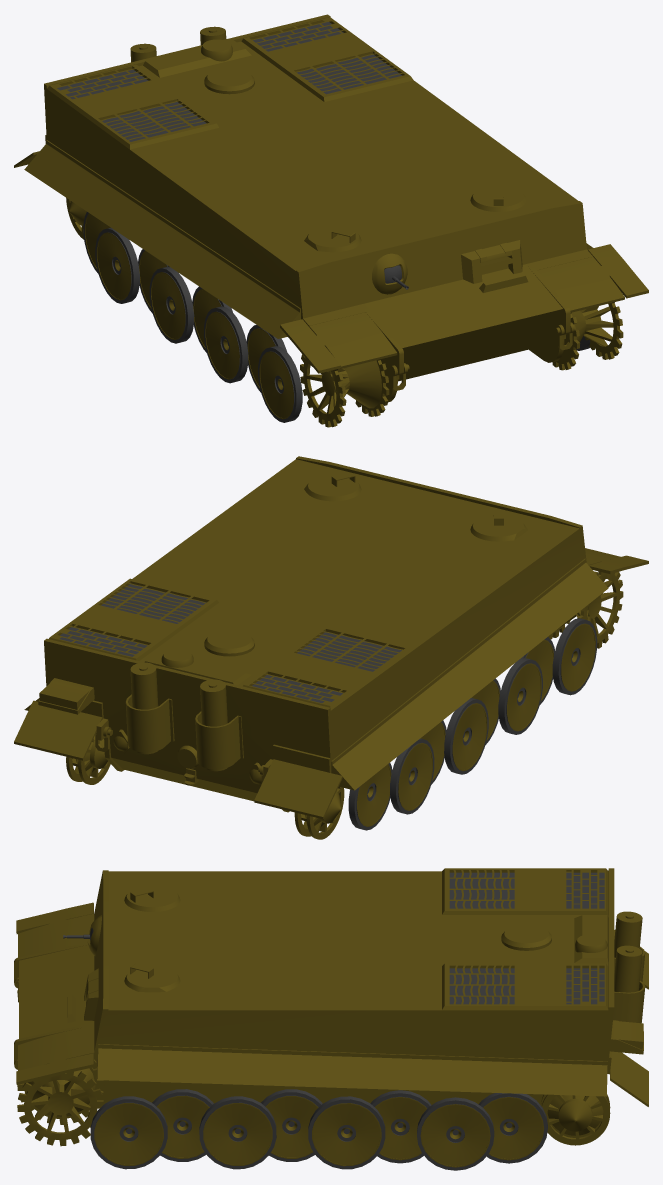
Rendered from Body1.obj.
The picture shows the model from 3 angles, top to bottom: view 1: azimuth 30°, elevation 25°; view 2: azimuth 150°, elevation 25°; view 3: azimuth 270°, elevation 25°; orthographic projection.
Visible parts, largest first — view 1: Tiger_(Chassis); view 2: Tiger_(Chassis); view 3: Tiger_(Chassis).
Boxes of the visible parts, box(x1,y1,x2,y2) form: Tiger_(Chassis): box(14, 14, 648, 427); Tiger_(Chassis): box(14, 456, 648, 839); Tiger_(Chassis): box(14, 868, 648, 1170).
Size of the model in its own units: 3.54 by 1.71 by 5.86.
